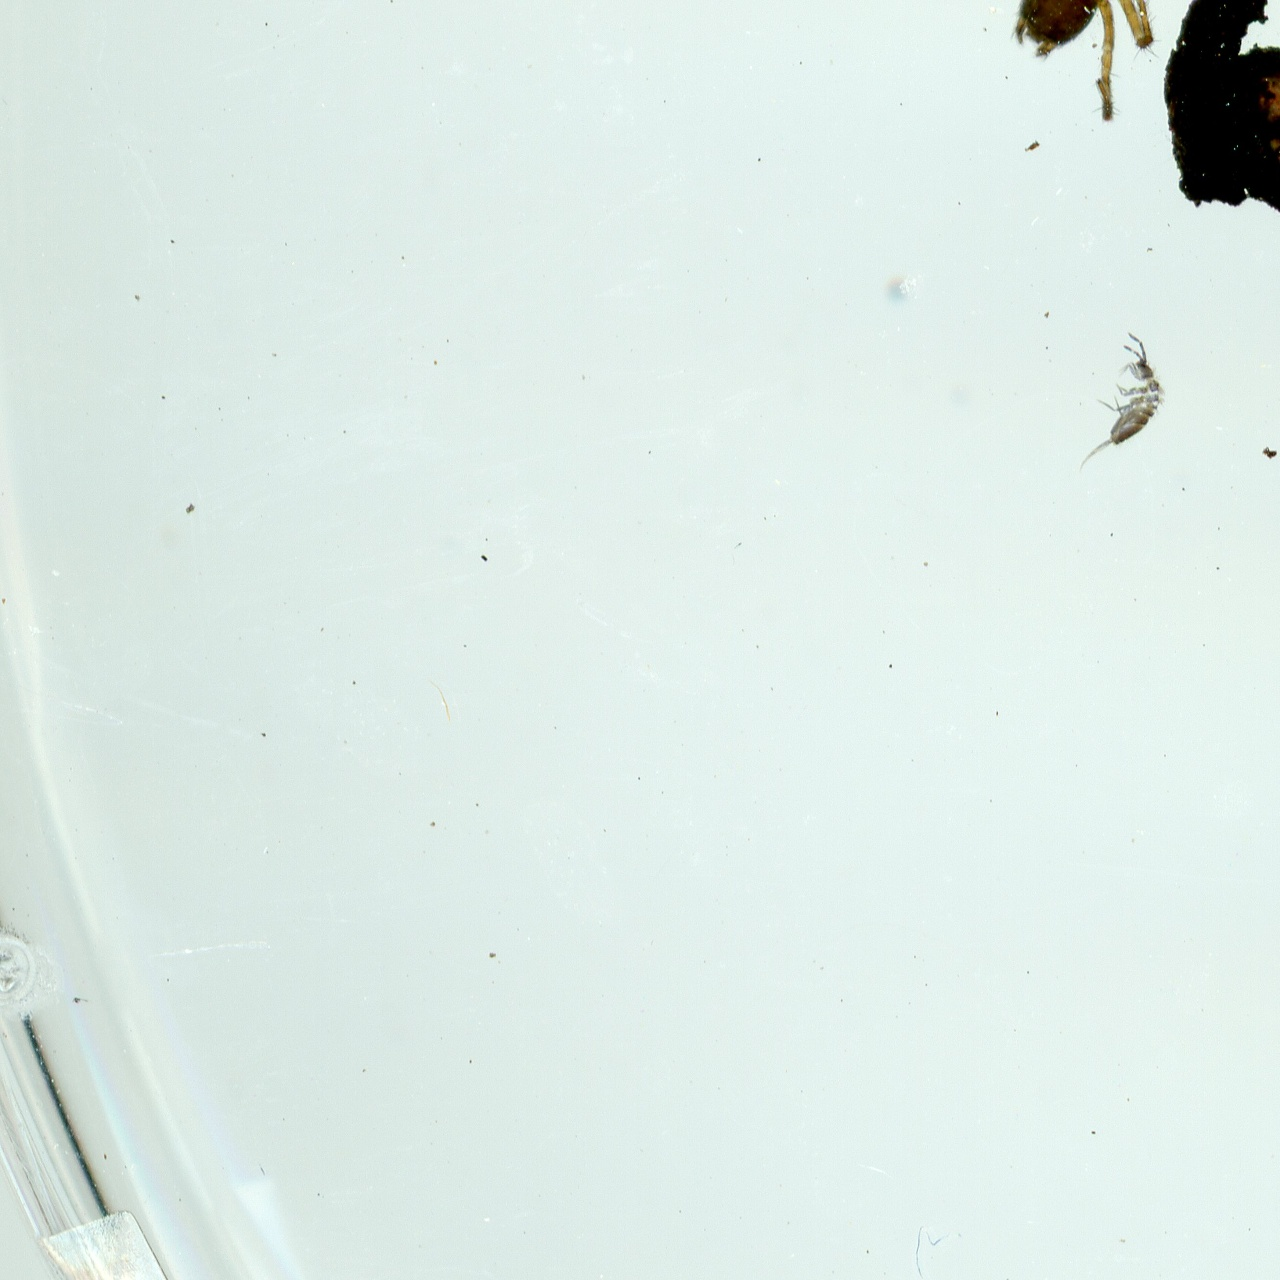arthropod: (960, 0, 1207, 129), (1071, 320, 1183, 490)
